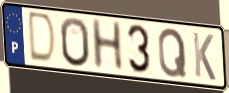3: (126, 23, 153, 76)
D: (28, 10, 58, 67)
H: (89, 17, 126, 71)
K: (191, 30, 218, 83)
O: (58, 16, 91, 69)
Q: (157, 27, 189, 80)
